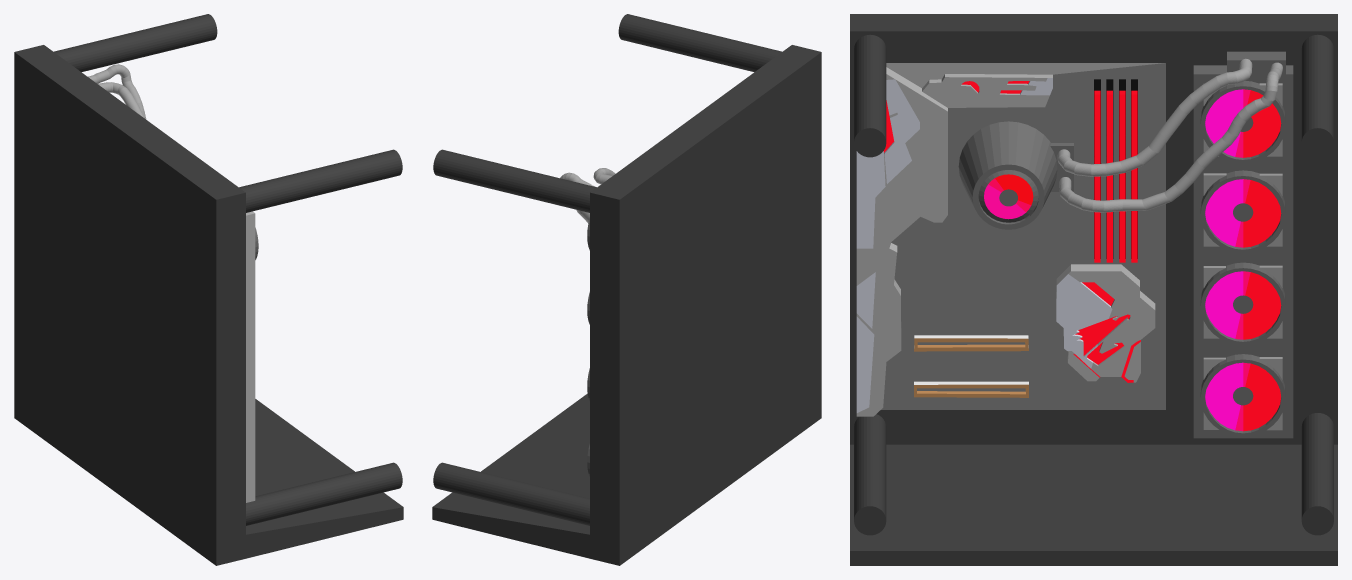
3 renders of one model, left to right at view 1: azimuth 30°, elevation 25°; view 2: azimuth 150°, elevation 25°; view 3: azimuth 270°, elevation 25°, orthographic. The views are drawn at different scales.
Parts seen in each view (by area): view 1: pc; view 2: pc; view 3: pc.
Boxes of the visible parts, box(x1,y1,x2,y2) form: pc: box(14, 14, 403, 565); pc: box(432, 14, 821, 565); pc: box(850, 14, 1337, 565).
Size of the model in its own units: 0.5815 by 1.08 by 1.08.
